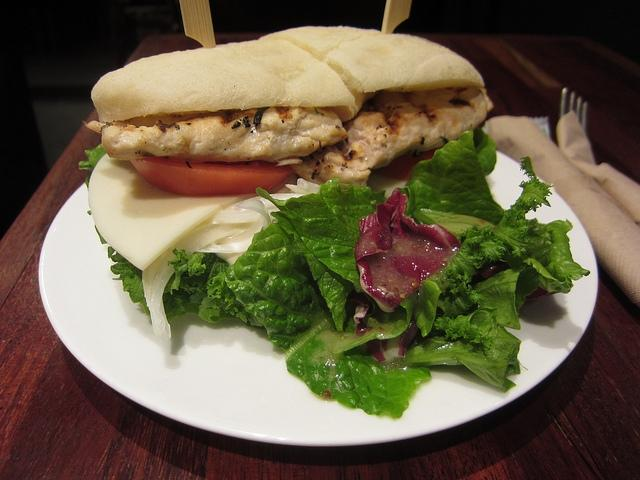lettuce: (225, 222, 420, 418), (270, 204, 377, 331), (354, 188, 460, 312), (397, 127, 504, 226), (402, 324, 521, 393), (472, 264, 540, 330), (200, 272, 266, 327), (433, 306, 499, 351), (492, 205, 535, 258), (437, 282, 486, 318), (460, 230, 510, 264), (111, 262, 145, 303), (78, 143, 106, 190)
tomato: (130, 156, 295, 197), (371, 148, 442, 180)
